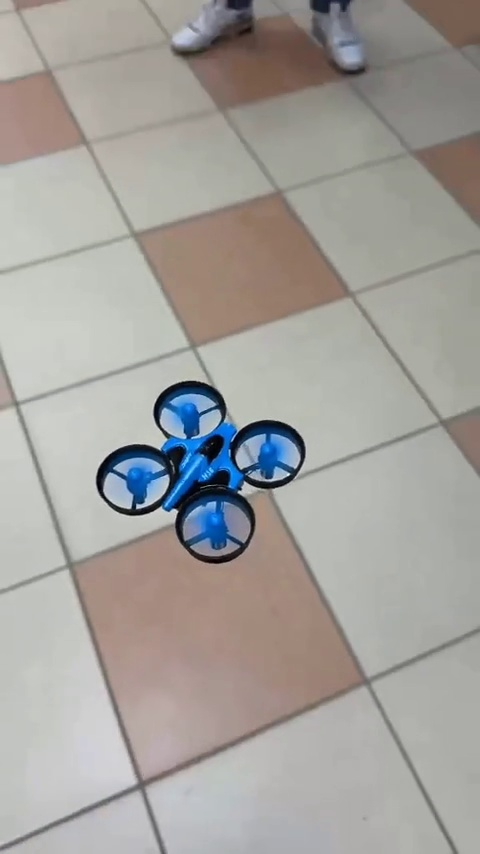drone: (92, 381, 306, 575)
